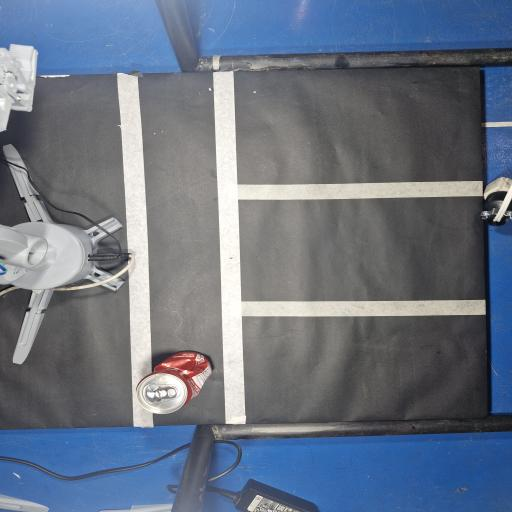lata_defectuoso: (137, 352, 211, 414)
